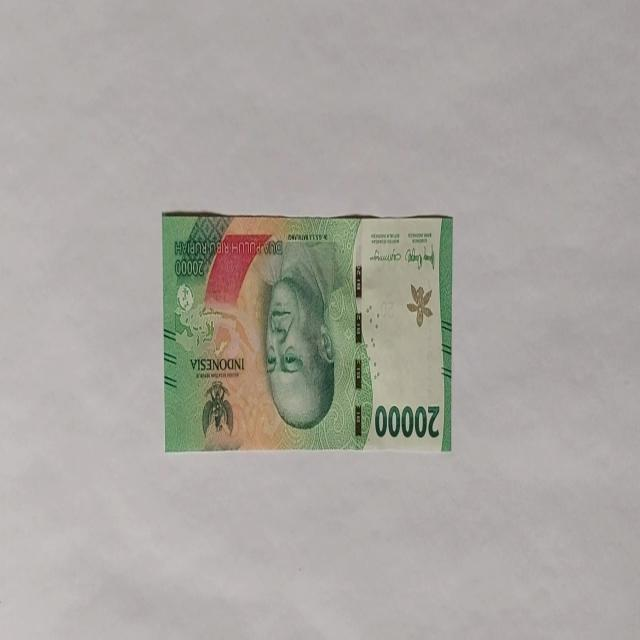dua puluh ribu rupiah: (161, 210, 453, 452), (259, 239, 339, 430)
